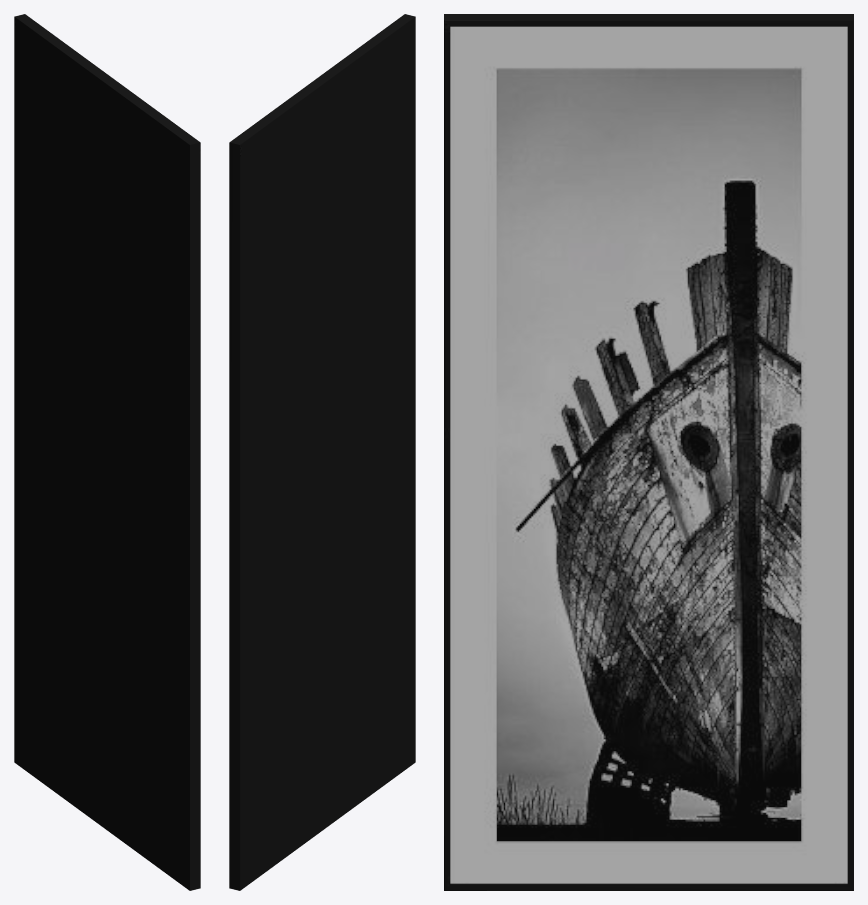
The model's file is WallPainting0015.obj.
3 views of the same model, side by side, from view 1: azimuth 30°, elevation 25°; view 2: azimuth 150°, elevation 25°; view 3: azimuth 270°, elevation 25° (orthographic). The views are drawn at different scales.
Bounding box in the file's own units: 0.014 × 0.938 × 0.4.
Materials: 1 (1 with a texture image).
